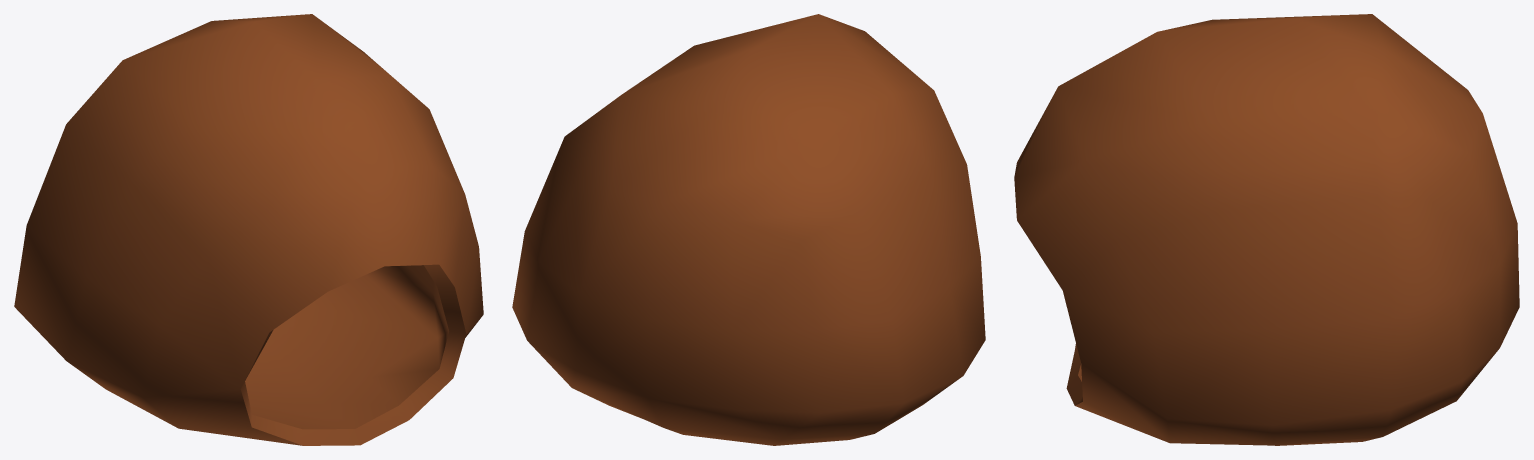
Rendered from Headgear_51.fbx.
The picture shows the model from 3 angles, left to right: view 1: azimuth 30°, elevation 25°; view 2: azimuth 150°, elevation 25°; view 3: azimuth 270°, elevation 25°; orthographic projection. The views are drawn at different scales.
Visible parts, largest first — view 1: Headgear_51; view 2: Headgear_51; view 3: Headgear_51.
Boxes of the visible parts, left/top/right/bottom form: Headgear_51: left=14, top=14, right=483, bottom=445; Headgear_51: left=512, top=14, right=985, bottom=445; Headgear_51: left=1014, top=14, right=1519, bottom=445.
Bounding box in the file's own units: 93.59 × 83.9 × 96.81.
